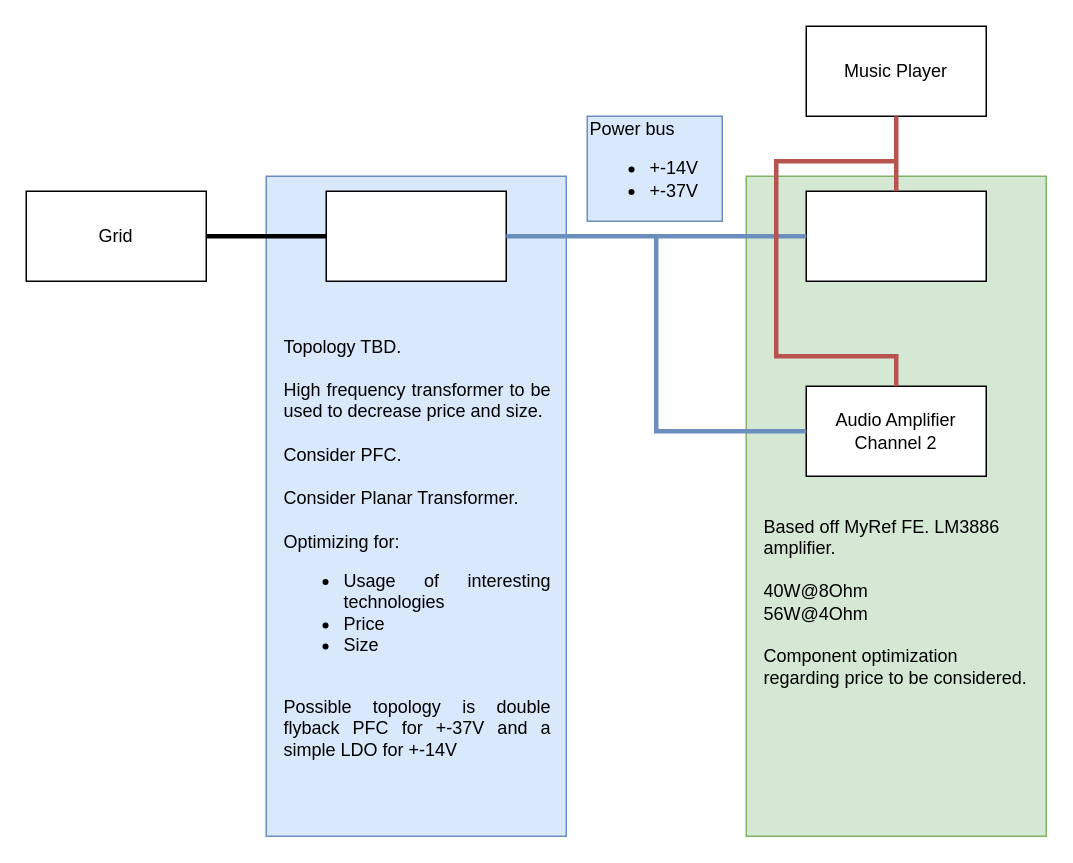
The diagram is 1073 pixels wide and 863 high, and some of its shapes have lost their labels. Each missing label, with the centre of its shape:
Audio Amplifier Channel 1: point (895, 235)
Power supply: point (415, 235)
